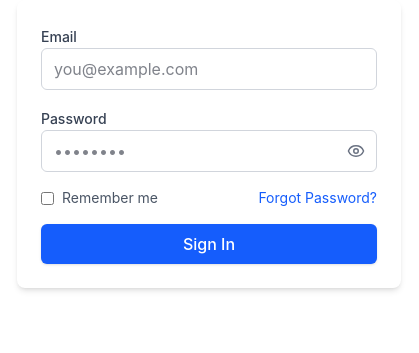
Test: LoginForm › shows validation errors for invalid input
The width and height of the screenshot is (419, 353).
Click the button "Sign In": (209, 244) 41,224 -> 377,264
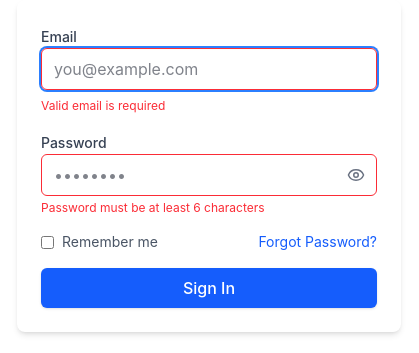
Result: the text "Valid email is required" is shown at 41,98 -> 165,113
Result: the text "Password must be at least 6 characters" is shown at 41,200 -> 265,215
